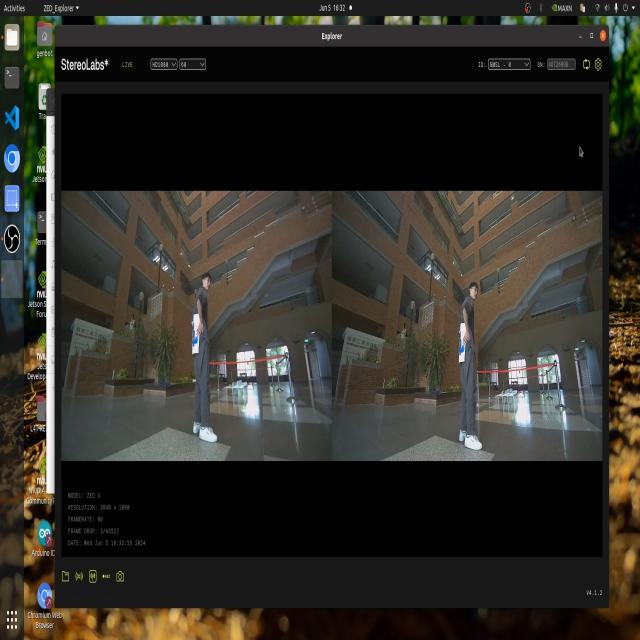blue: (456, 334, 471, 372), (189, 321, 200, 350)
